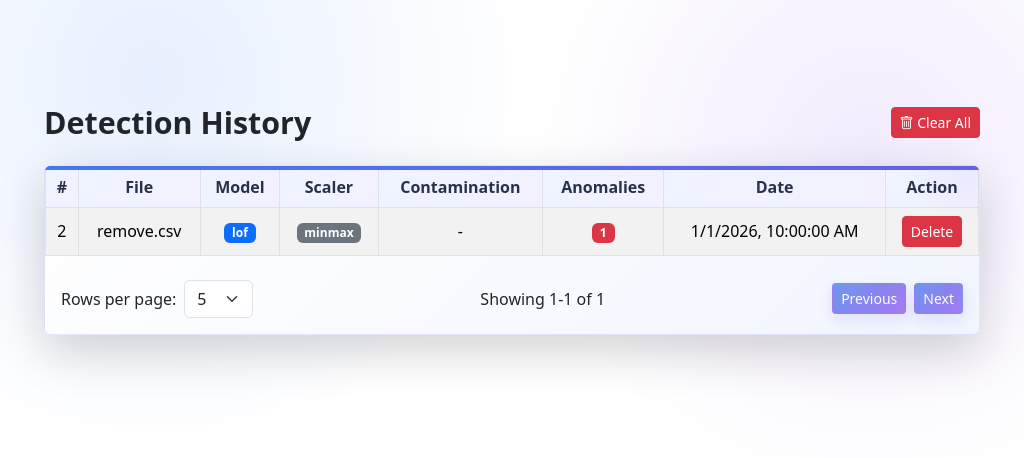
History page › deletes a confirmed record
expect the text "remove.csv" is shown: met, box [78,207,200,255]
Click the button "Delete": (932, 231) [902,216,962,246]
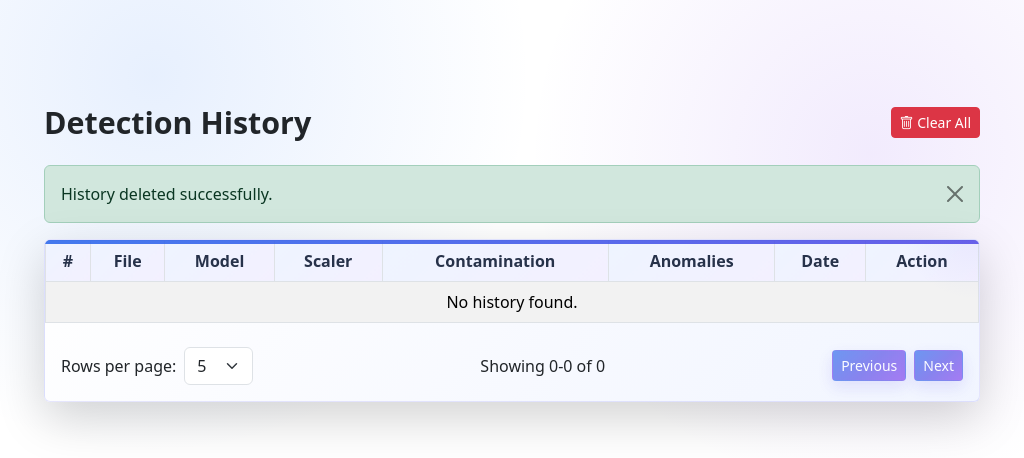
expect the message reads "History deleted successfully.": met, box [61,182,273,204]
